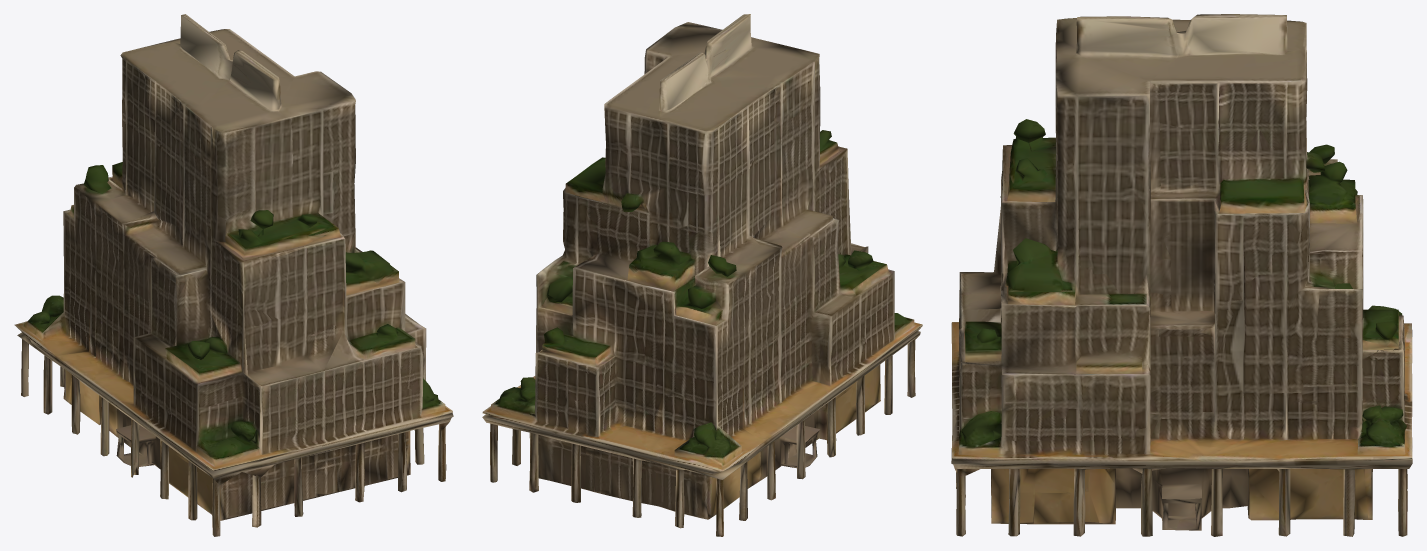
The model's file is au_bld_investors_tower.glb.
3 renders of one model, left to right at view 1: azimuth 30°, elevation 25°; view 2: azimuth 150°, elevation 25°; view 3: azimuth 270°, elevation 25°, orthographic. The views are drawn at different scales.
Visible parts, largest first — view 1: tripo_node_4053b1c8-bf22-4bbf-80bb-3047e1dde03f; view 2: tripo_node_4053b1c8-bf22-4bbf-80bb-3047e1dde03f; view 3: tripo_node_4053b1c8-bf22-4bbf-80bb-3047e1dde03f.
Boxes of the visible parts, x1,y1,x2,y2 form: tripo_node_4053b1c8-bf22-4bbf-80bb-3047e1dde03f: [14, 14, 453, 536]; tripo_node_4053b1c8-bf22-4bbf-80bb-3047e1dde03f: [482, 14, 922, 536]; tripo_node_4053b1c8-bf22-4bbf-80bb-3047e1dde03f: [951, 14, 1412, 536].
Size of the model in its own units: 0.6289 by 0.9775 by 0.9029.
Materials: 1 (1 with a texture image).
